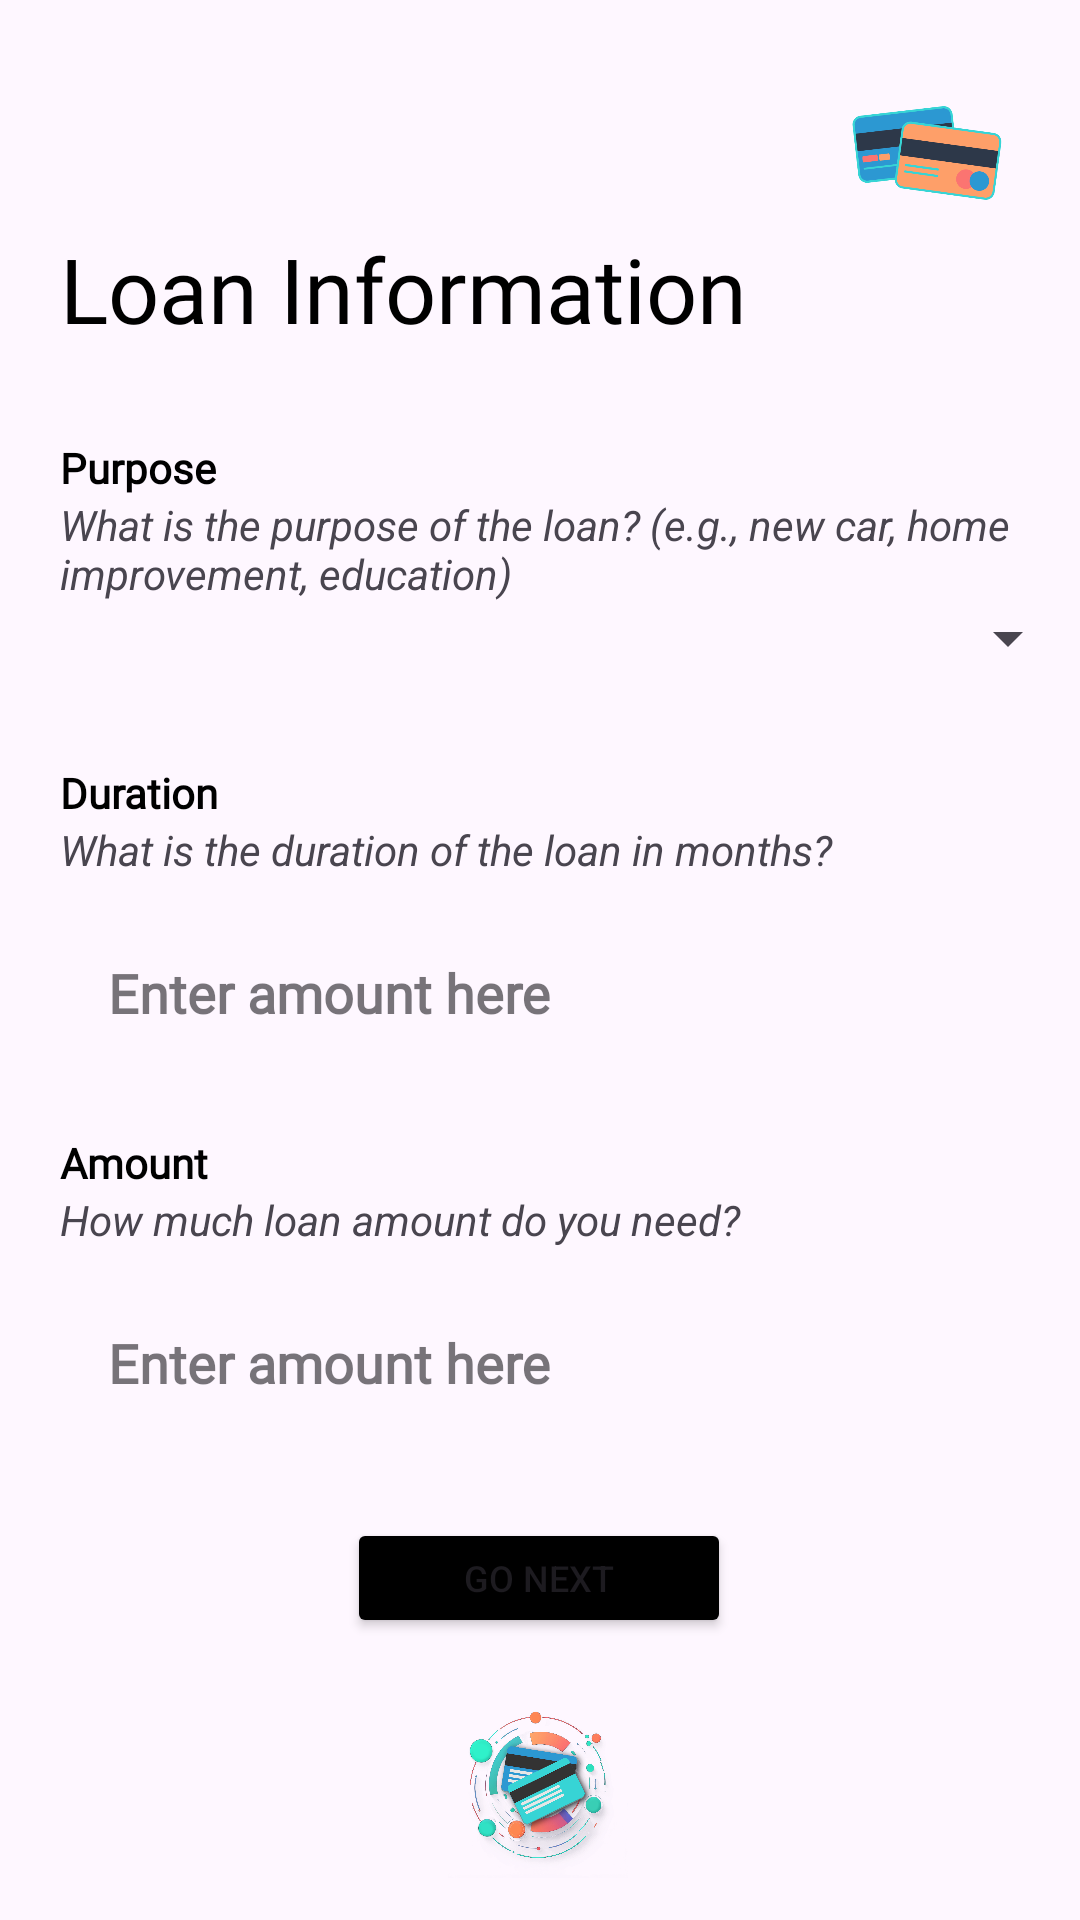

Named icons in this screenshot (1080x1920) and their centers, [x,y]:
credit card: [927,153]
